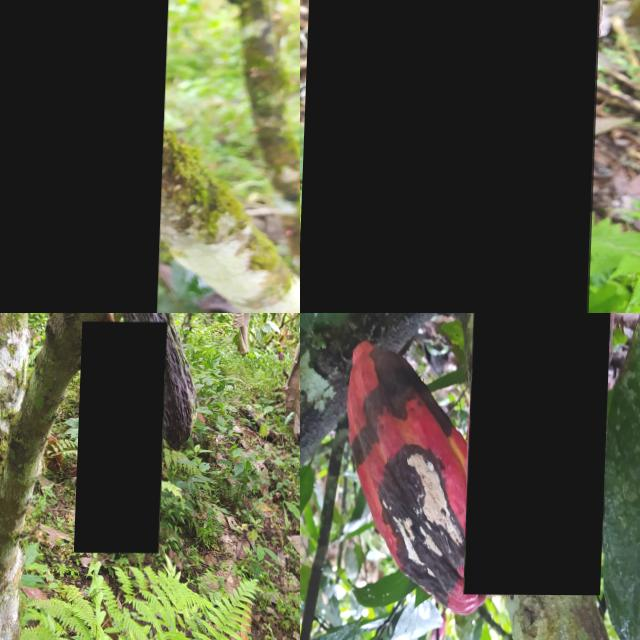Fitoftora: (301, 0, 606, 313), (0, 0, 172, 313), (116, 313, 203, 451)
Monilia: (466, 313, 616, 594), (343, 342, 491, 606)
Sana: (77, 321, 169, 552)
